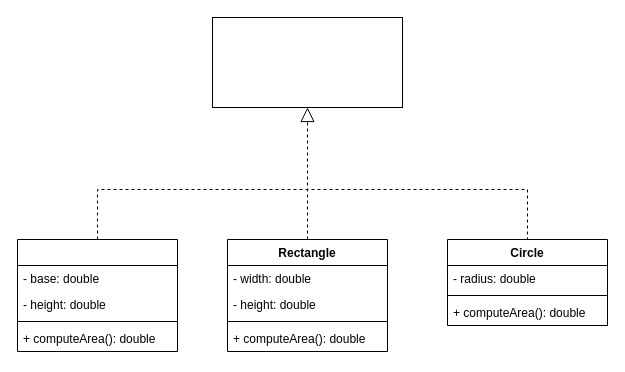
The diagram is 625 pixels wide and 372 high, and some of its shapes have lost their labels. Each missing label, with the box of its shape:
<<Interface>> Interface + computeArea(): double: (212, 16, 402, 108)
Triangle: (16, 238, 178, 352)
